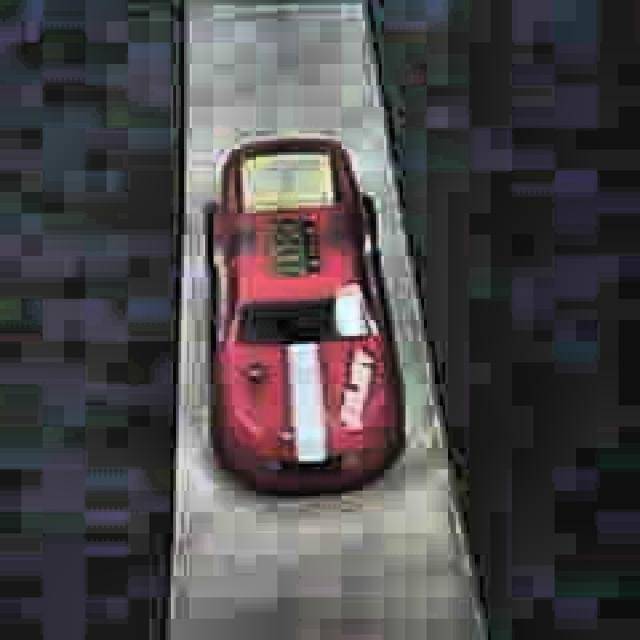car: (201, 137, 407, 501)
